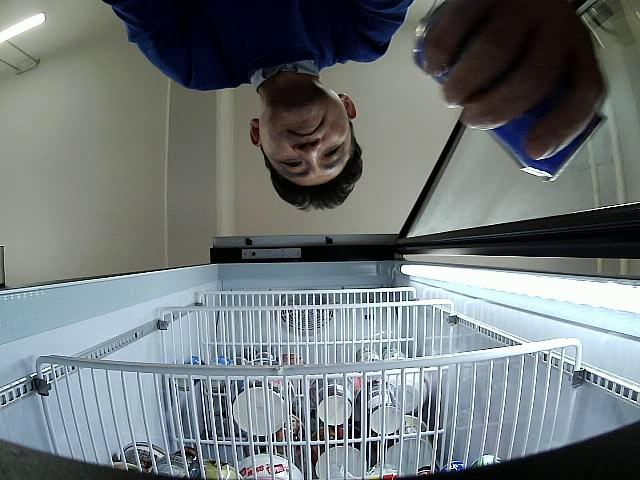00_hand: (423, 0, 609, 161)
13_pocariSweat: (414, 7, 608, 182)
